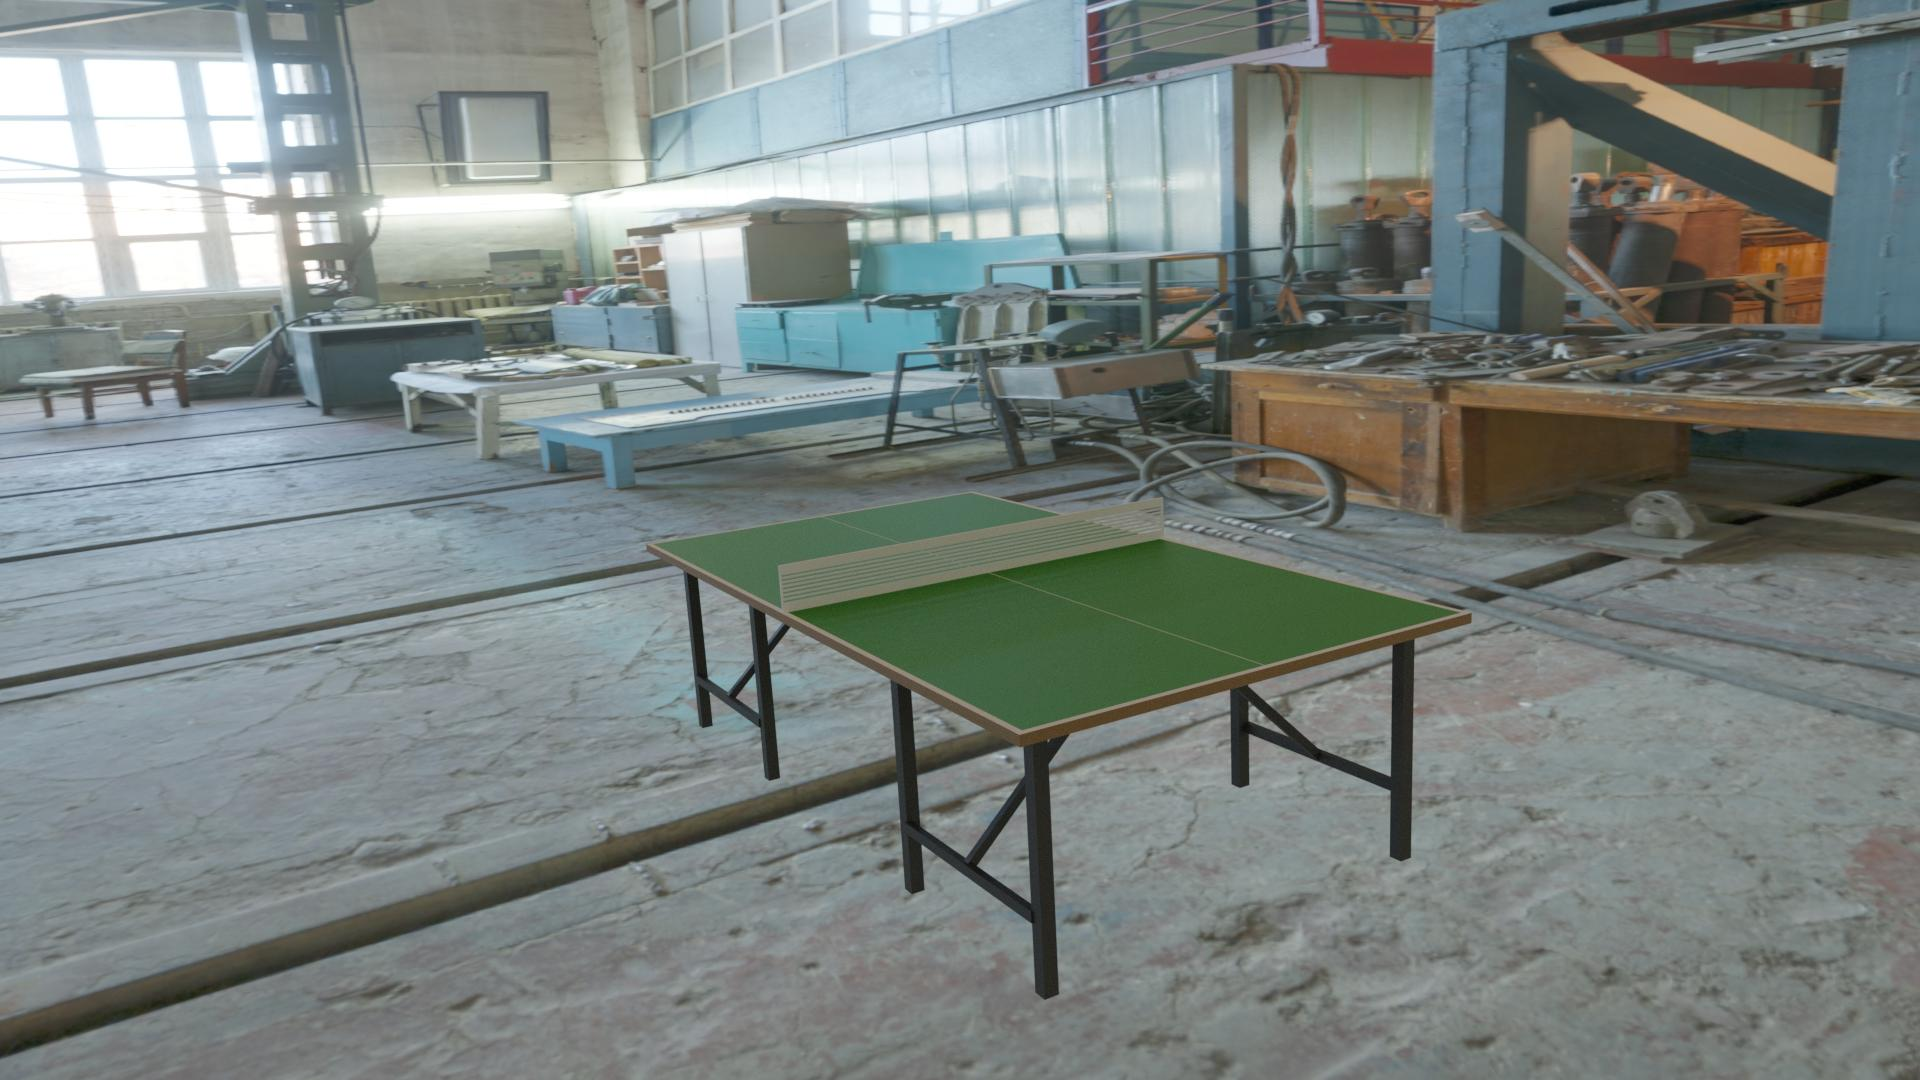table: (653, 493, 1461, 731)
